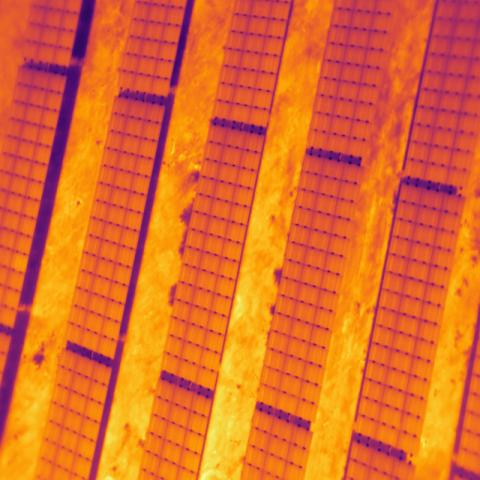fault: (8, 251, 28, 274)
